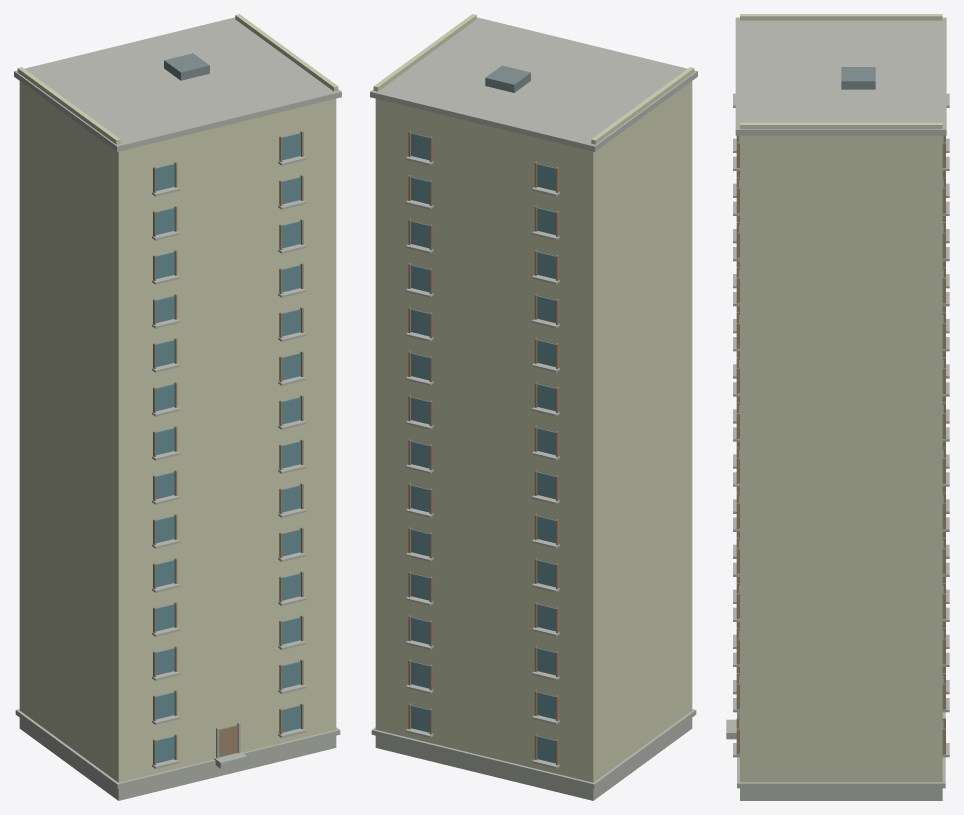
Rendered from tower-3.glb.
3 views of the same model, side by side, from view 1: azimuth 30°, elevation 25°; view 2: azimuth 150°, elevation 25°; view 3: azimuth 270°, elevation 25° (orthographic). The views are drawn at different scales.
Bounding box in the file's own units: 7.75 × 21.9 × 6.51.
